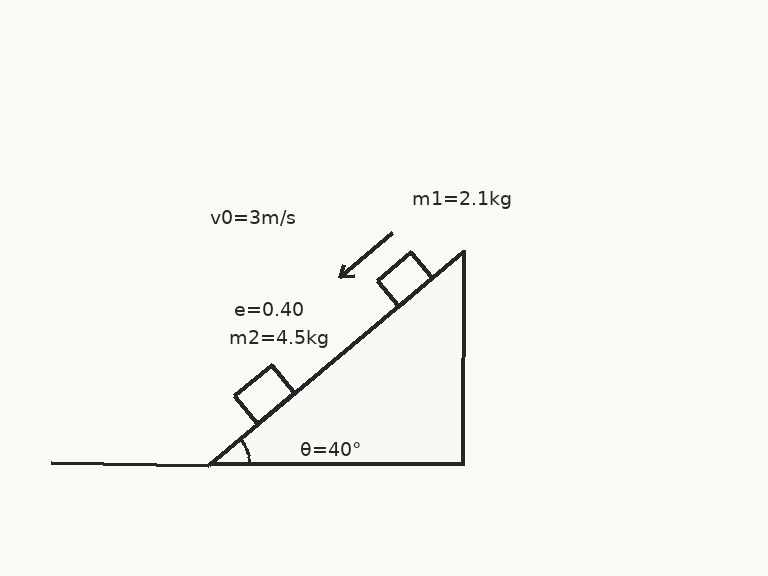block: (232, 363, 297, 426), (375, 250, 434, 307)
ramp: (207, 249, 465, 466)
